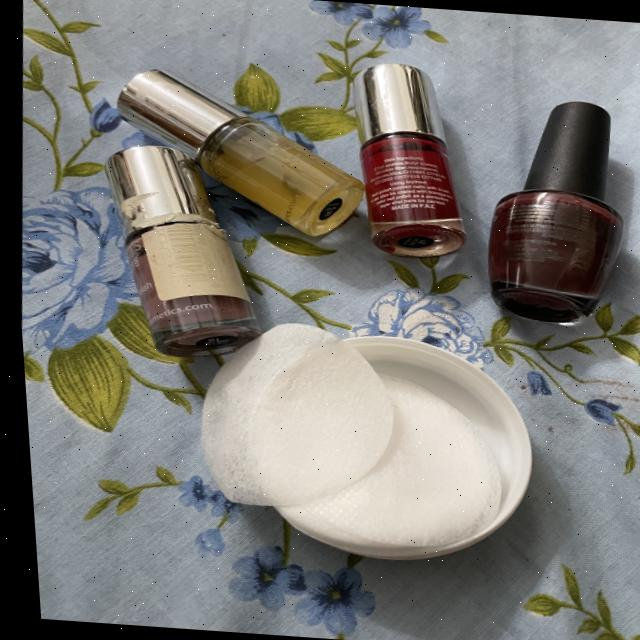nail polish: (91, 44, 380, 250), (462, 71, 640, 339), (62, 131, 275, 352), (336, 43, 502, 270)
nail polish remover: (164, 304, 555, 578)
